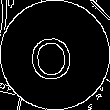O_N: (32, 28, 78, 82)
